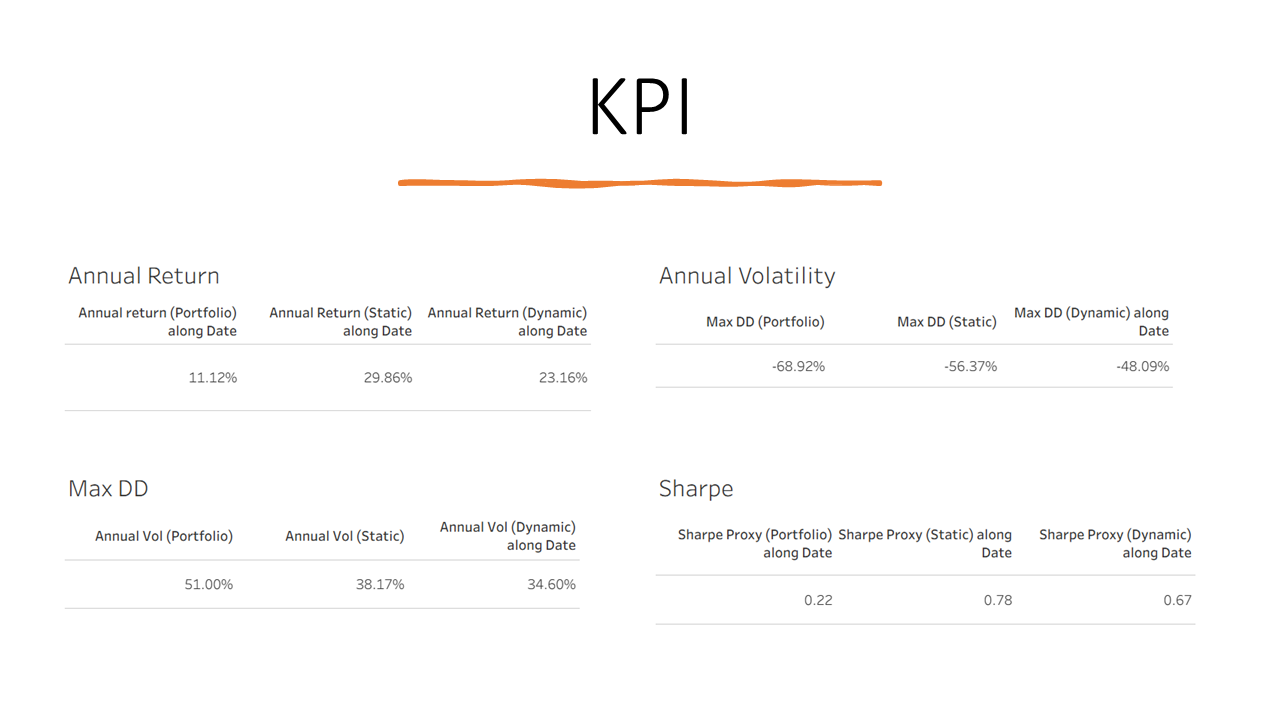

What the dashboard file says about the page in this screenshot:
{"tool":"tableau","page":{"name":"KPI","canvas":[1000,1000],"units":"permille","ordinal":5},"visuals":[{"type":"worksheet","title":"Annual Return","mark":"Text","box":[5,10.7,495,489.3]},{"type":"worksheet","title":"Annual Volatility","mark":"Text","box":[500,10.7,495,489.3]},{"type":"worksheet","title":"Max DD","mark":"Text","box":[5,500,495,489.3]},{"type":"worksheet","title":"Sharpe ","mark":"Text","box":[500,500,495,489.3]}]}

Visuals, with their boxes on the dashboard's canvas, which has no fixed pixel size, in thousandths of its width and height (x1, y1, x2, y2). These are canvas units, not pixel positions in the 1280x720 screenshot, which may show the page scaled, cropped or inside an application window:
"Annual Return" worksheet (Text marks): box=[5, 11, 500, 500]
"Annual Volatility" worksheet (Text marks): box=[500, 11, 995, 500]
"Max DD" worksheet (Text marks): box=[5, 500, 500, 989]
"Sharpe " worksheet (Text marks): box=[500, 500, 995, 989]
